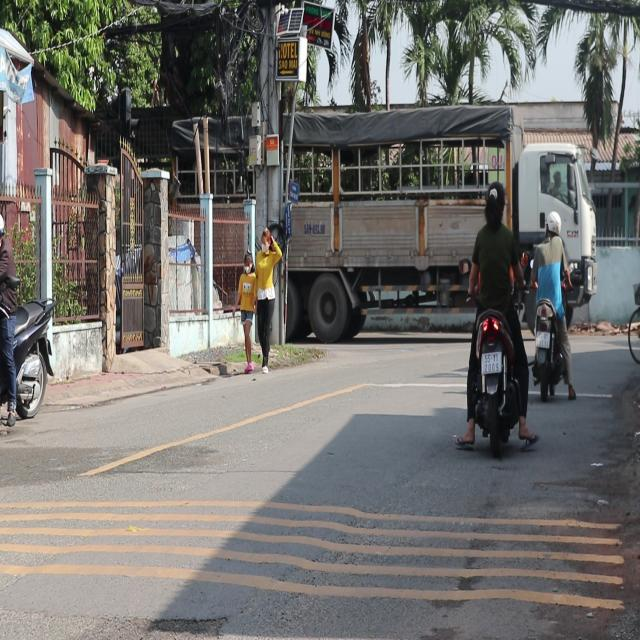licenseplate: (460, 179, 530, 453)
motorcyclist: (482, 182, 505, 226)
nohelmet: (481, 352, 501, 372)
